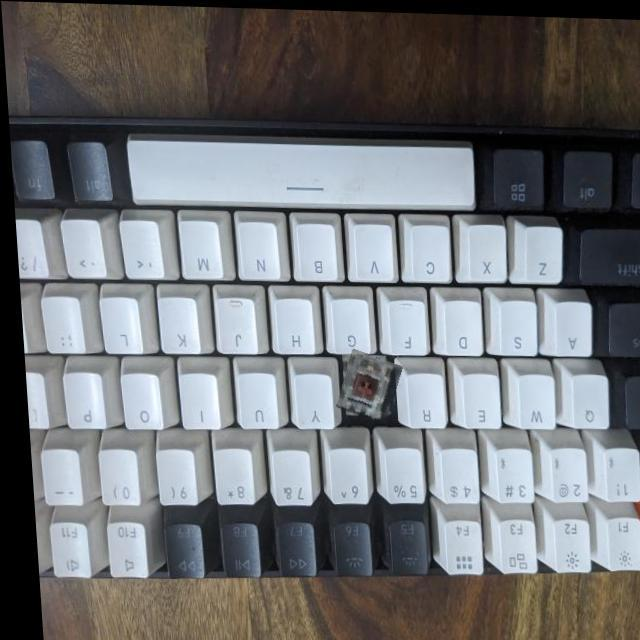key-switch: (331, 348, 395, 419)
